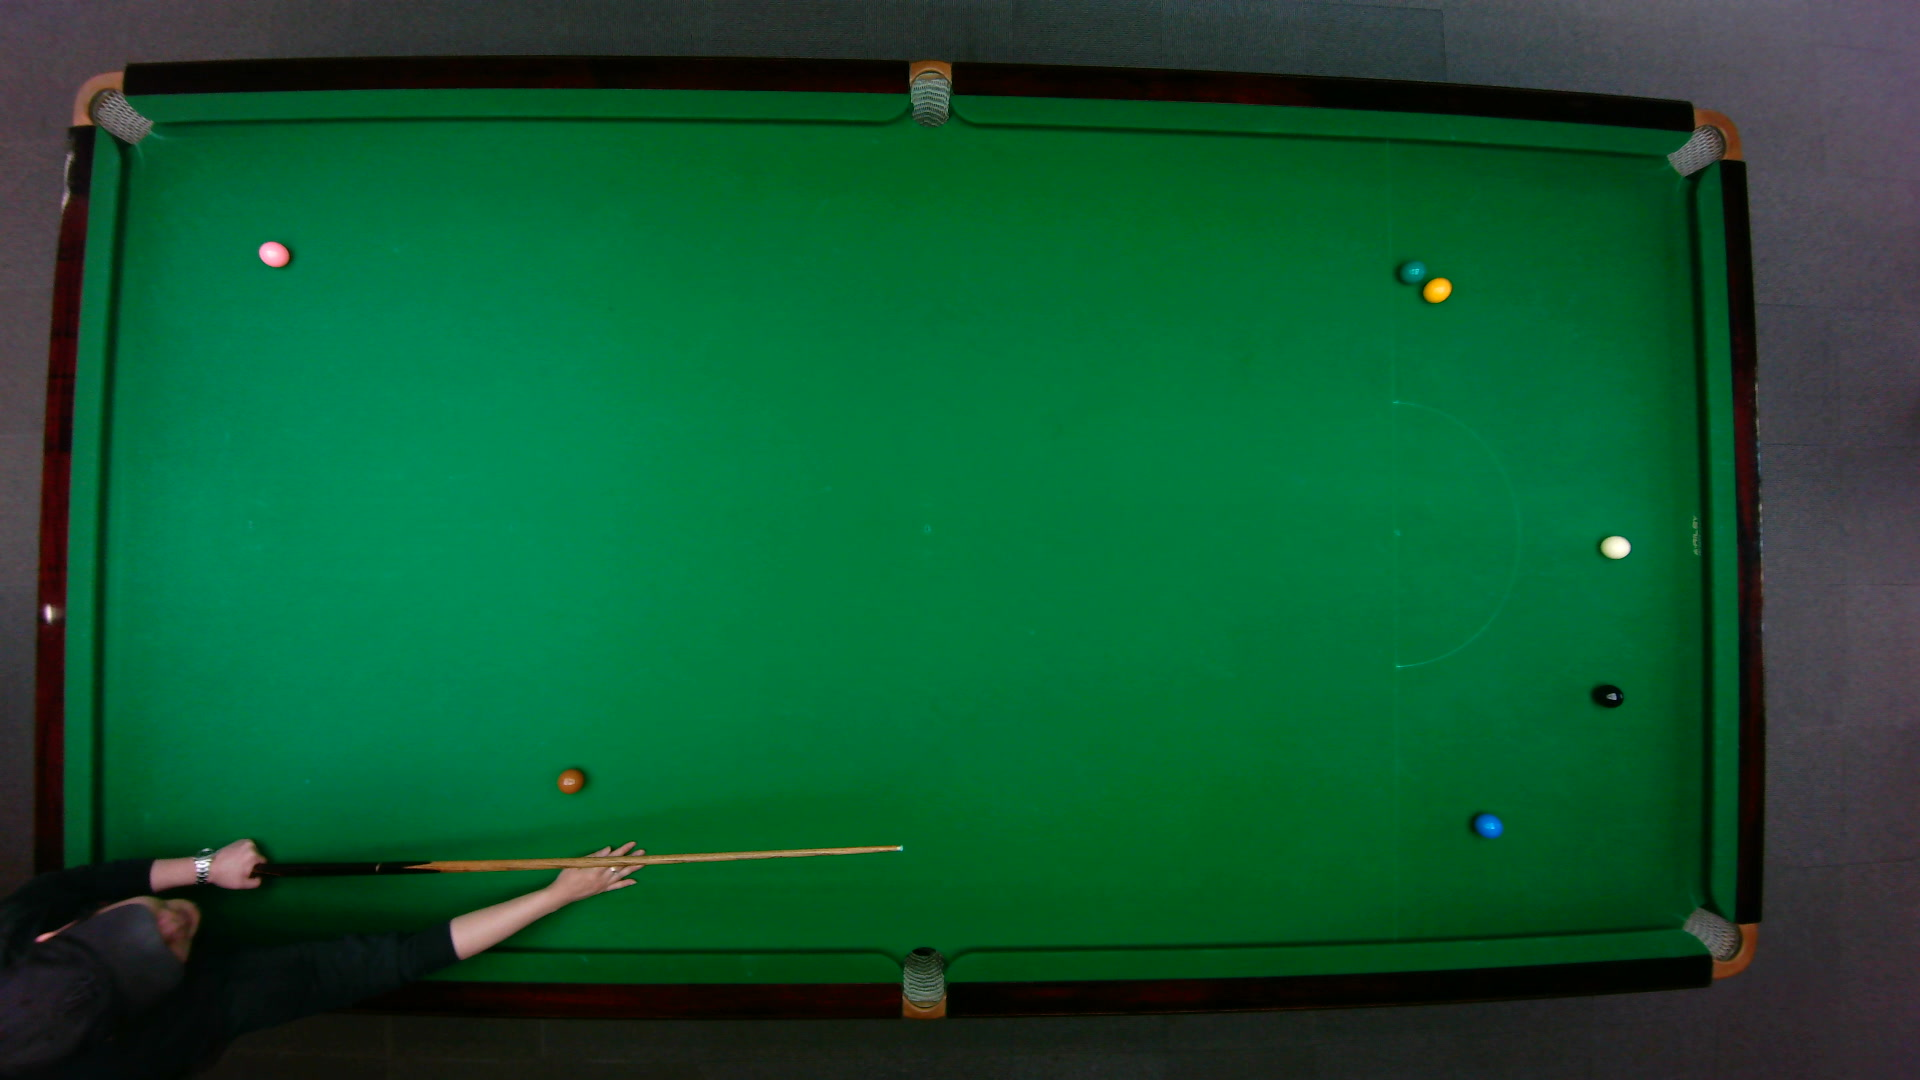bag: (70, 69, 154, 145), (1680, 905, 1759, 980), (1665, 107, 1745, 179), (902, 945, 945, 1022), (909, 58, 952, 129)
black: (1593, 683, 1625, 709)
blue: (1472, 811, 1505, 840)
brown: (555, 766, 587, 796)
cue: (249, 843, 905, 880)
green: (1396, 258, 1428, 285)
pink: (256, 239, 291, 270)
white: (1598, 533, 1633, 560)
yellow: (1420, 276, 1455, 305)
zone: (1390, 400, 1520, 669)
